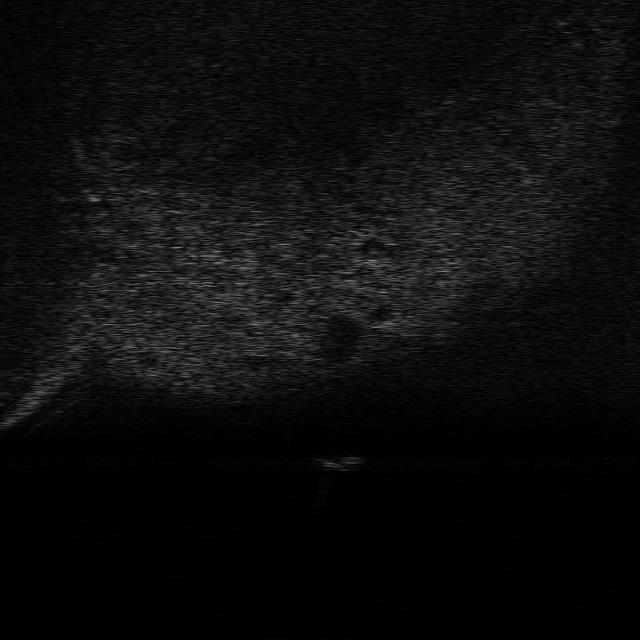cube: (314, 455, 368, 470)
